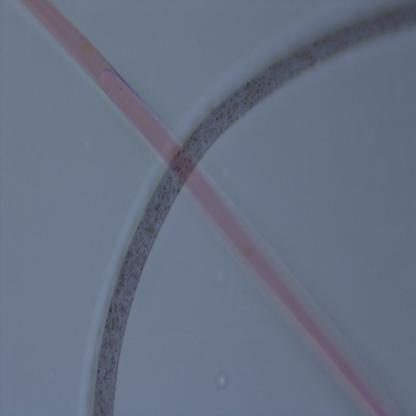Background material: (213, 365, 227, 392)
Microfibre: (21, 0, 399, 416), (85, 0, 416, 416)
